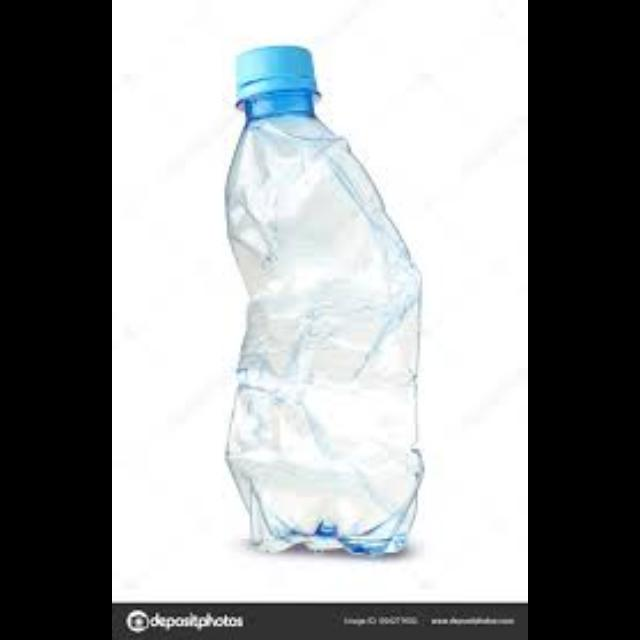trash: (205, 28, 452, 564)
